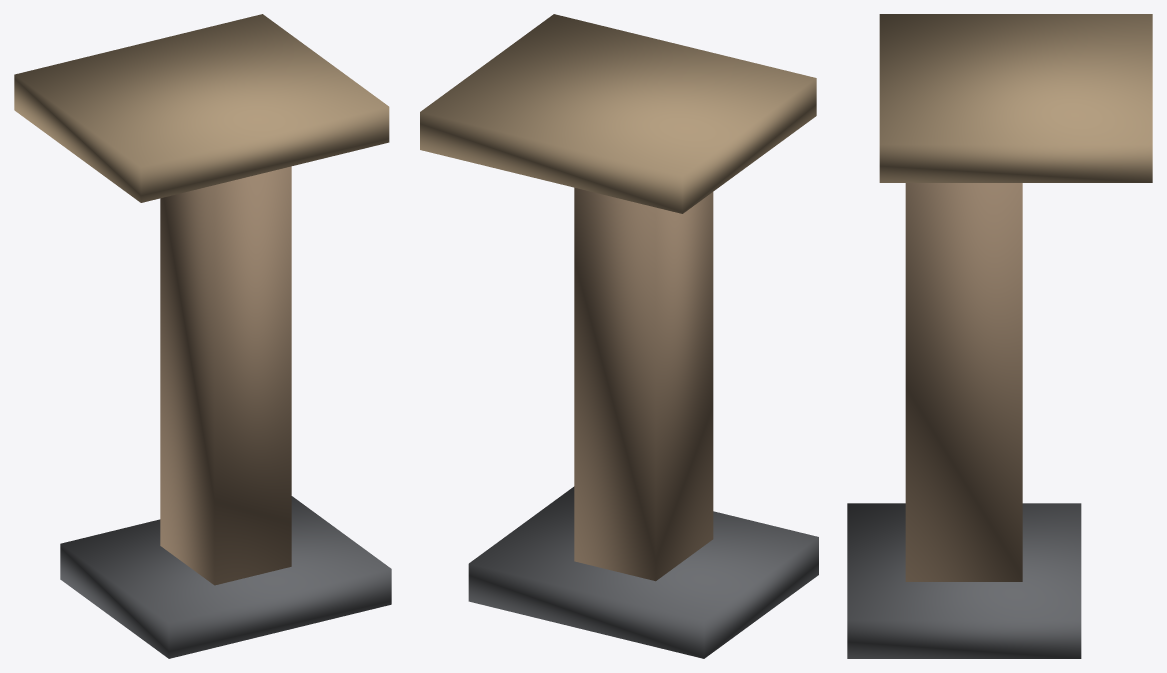
The model's file is lectern__deep.glb.
The picture shows the model from 3 angles, left to right: view 1: azimuth 30°, elevation 25°; view 2: azimuth 150°, elevation 25°; view 3: azimuth 270°, elevation 25°; orthographic projection. The views are drawn at different scales.
Parts seen in each view (by area): view 1: world; view 2: world; view 3: world.
Part boxes in pixels (<box>): world: <box>14,14,391,658</box>; world: <box>420,14,818,658</box>; world: <box>847,14,1152,658</box>.
Bounding box in the file's own units: 0.58 × 1.08 × 0.5734.
